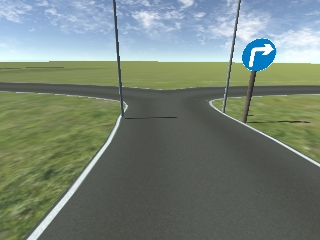right: (241, 39, 275, 71)
